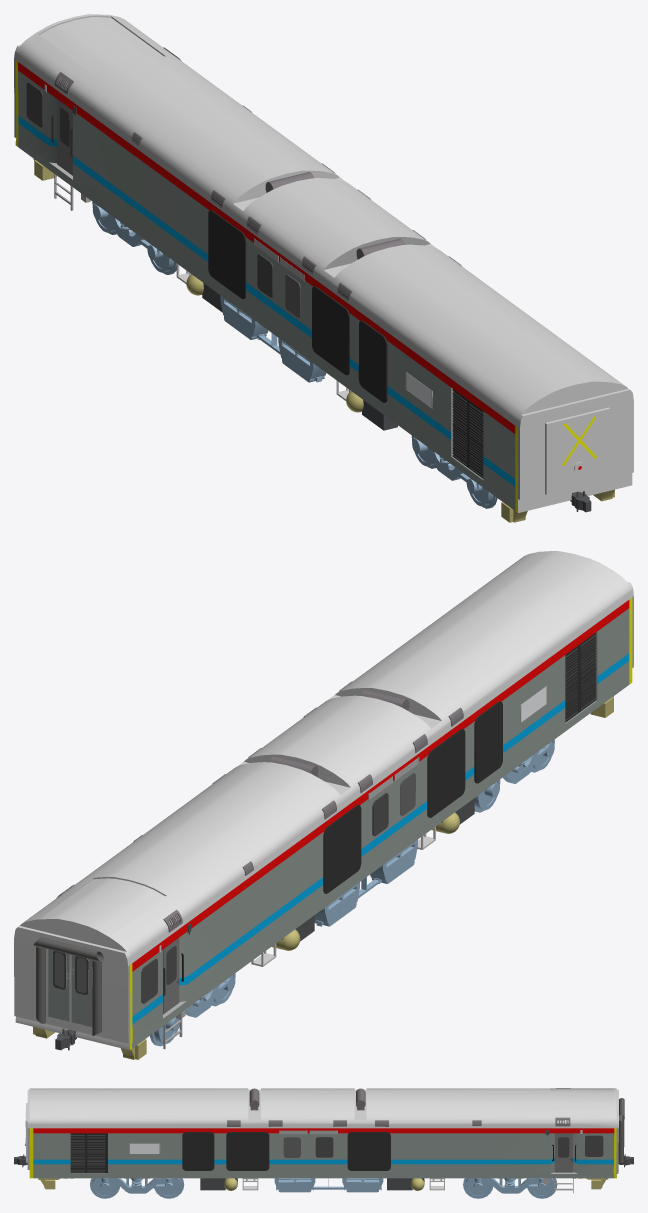
File: indian-lhb-generator-car.glb
The picture shows the model from 3 angles, top to bottom: view 1: azimuth 30°, elevation 25°; view 2: azimuth 150°, elevation 25°; view 3: azimuth 270°, elevation 25°; orthographic projection. The views are drawn at different scales.
Parts seen in each view (by area): view 1: polySurface76_door_0, polySurface88_lambert1_0; view 2: polySurface76_door_0, polySurface88_lambert1_0; view 3: polySurface76_door_0, polySurface88_lambert1_0.
Boxes of the visible parts, left/top/right/bottom form: polySurface76_door_0: left=14, top=14, right=633, bottom=522; polySurface88_lambert1_0: left=14, top=59, right=519, bottom=499; polySurface76_door_0: left=14, top=551, right=633, bottom=1059; polySurface88_lambert1_0: left=14, top=596, right=633, bottom=1049; polySurface76_door_0: left=14, top=1088, right=633, bottom=1198; polySurface88_lambert1_0: left=27, top=1098, right=624, bottom=1193.
Size of the model in its own units: 0.0491 by 0.0655 by 0.3865.
2 materials, 2 textured.
